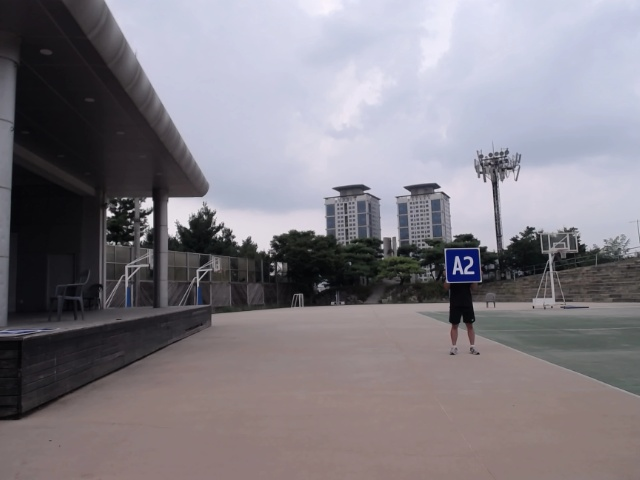delivery_a2: (446, 248, 481, 283)
